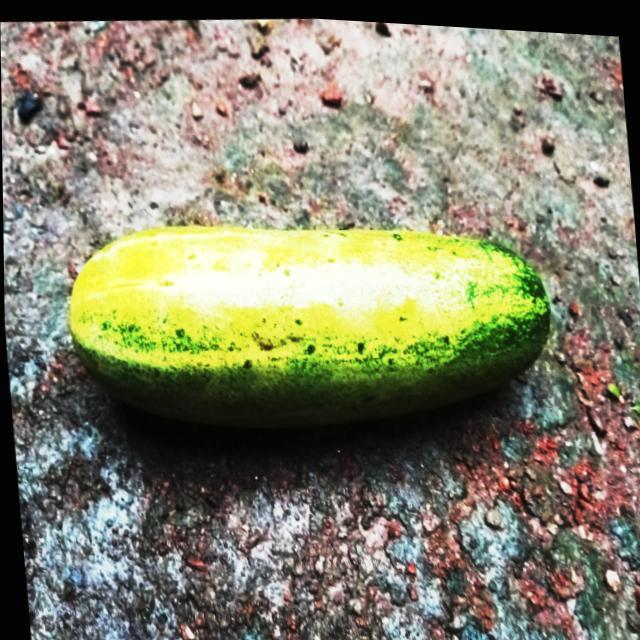Fresh-Cucumber: (58, 187, 556, 438)
